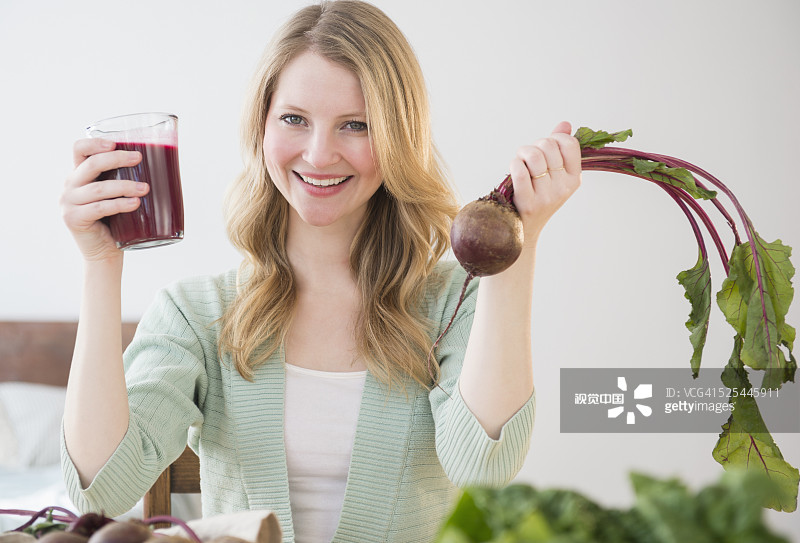no-phone: (475, 97, 624, 271), (50, 98, 194, 276)
